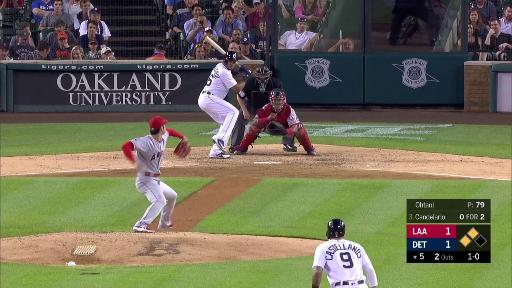pitcher: (121, 115, 193, 232)
